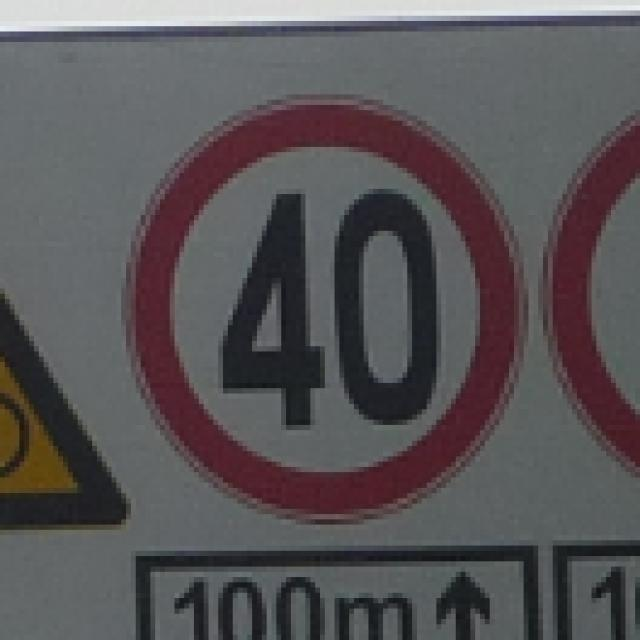Speed: (126, 88, 538, 520)
